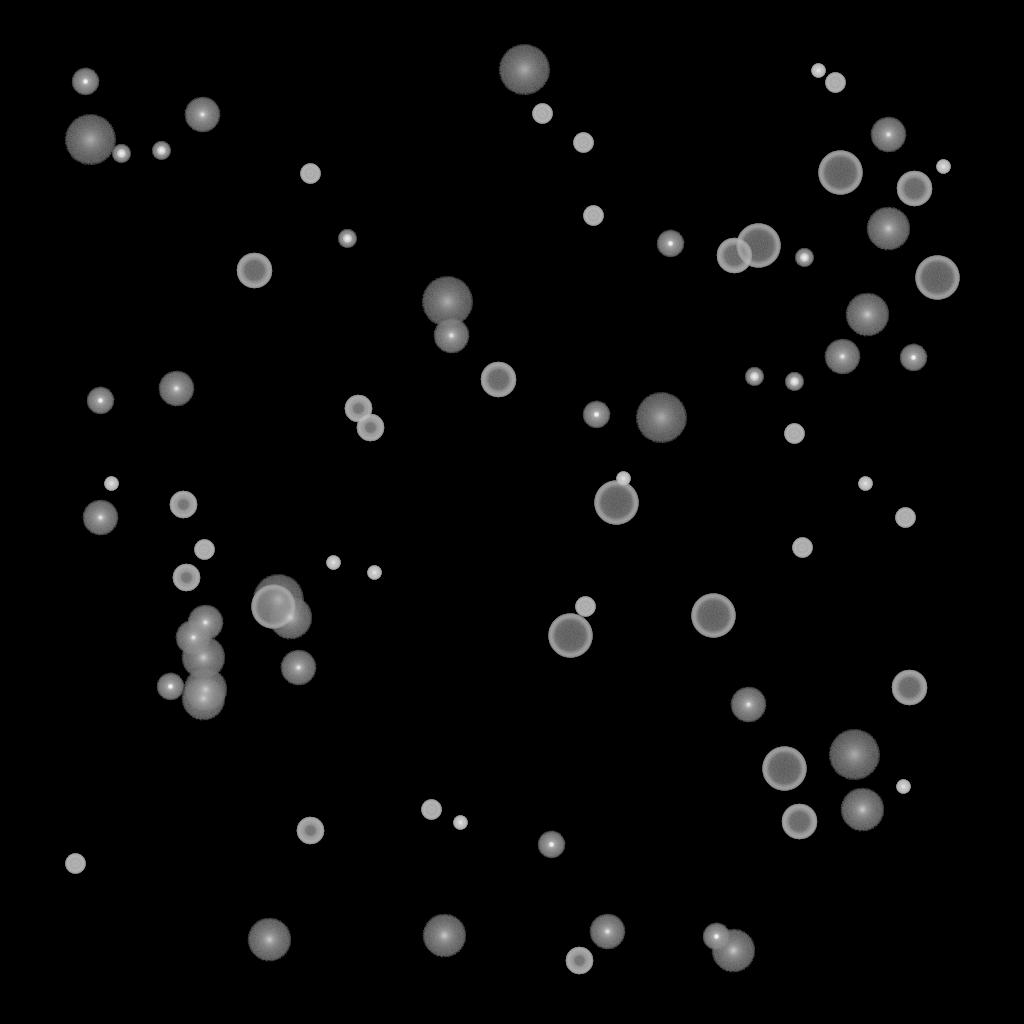depth:-10: (582, 401, 610, 429), (702, 923, 730, 951), (86, 387, 114, 415), (899, 344, 927, 372), (656, 230, 684, 258), (537, 831, 565, 859), (71, 68, 99, 96), (156, 673, 184, 701)
depth:-20: (795, 249, 813, 267), (745, 368, 763, 386), (112, 145, 130, 163), (152, 142, 170, 160), (785, 373, 803, 391), (338, 230, 356, 248)
depth:-30: (326, 556, 340, 570), (367, 566, 381, 580), (896, 780, 910, 794), (104, 477, 118, 491), (811, 64, 825, 78), (936, 160, 950, 174), (858, 477, 872, 491), (616, 472, 630, 486), (453, 816, 467, 830)
depth:-40: (792, 538, 812, 558), (194, 540, 214, 560), (825, 73, 845, 93), (532, 104, 552, 124), (300, 164, 320, 184), (895, 508, 915, 528), (65, 854, 85, 874), (573, 133, 593, 153), (421, 800, 441, 820), (583, 206, 603, 226), (784, 424, 804, 444), (575, 597, 595, 617)
depth:-50: (565, 947, 593, 975), (356, 414, 384, 442), (296, 817, 324, 845), (344, 395, 372, 423), (169, 491, 197, 519), (172, 564, 200, 592)
depth:-60: (716, 238, 752, 274), (781, 804, 817, 840), (236, 253, 272, 289), (896, 171, 932, 207), (891, 670, 927, 706), (480, 362, 516, 398)
depth:-70: (736, 224, 780, 268), (915, 256, 959, 300), (691, 594, 735, 638), (251, 585, 295, 629), (594, 481, 638, 525), (548, 614, 592, 658), (762, 747, 806, 791), (818, 151, 862, 195)
depth:0: (824, 339, 860, 375), (187, 605, 223, 641), (82, 500, 118, 536), (589, 914, 625, 950), (433, 318, 469, 354), (158, 371, 194, 407), (870, 117, 906, 153), (280, 650, 316, 686), (184, 97, 220, 133), (730, 687, 766, 723), (175, 620, 211, 656)
depth:10: (845, 293, 889, 337), (183, 668, 227, 712), (422, 914, 466, 958), (268, 596, 312, 640), (181, 636, 225, 680), (840, 788, 884, 832), (181, 677, 225, 721), (711, 929, 755, 973), (866, 207, 910, 251), (247, 918, 291, 962)
depth:20: (828, 730, 880, 780), (498, 45, 550, 95), (421, 277, 473, 327), (635, 393, 687, 443), (252, 575, 304, 625), (64, 115, 116, 165)
